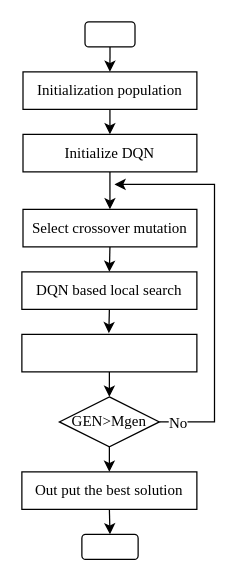
Some shapes in this 248 by 581 pixel diagram are drawn without their labels. The shapes that lost their labels are listed below. From the top down, each one's centre as x and y in pixels, then its label:
[109,34]: Start
[109,352]: Training DQN
[109,546]: End
